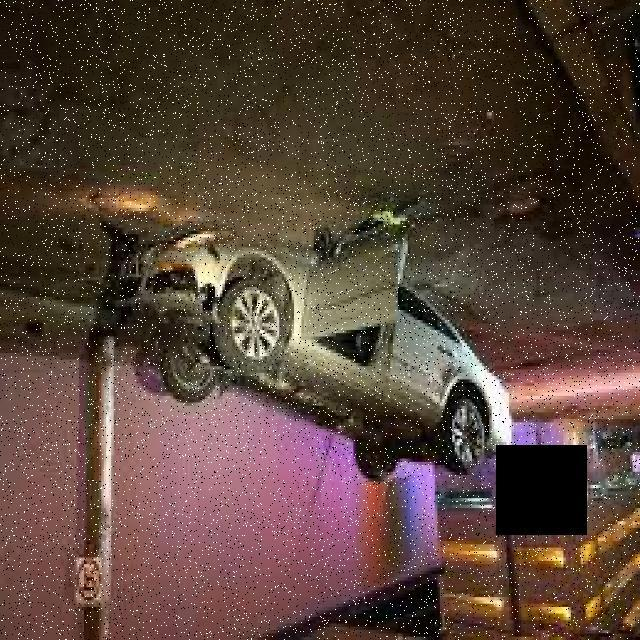severe: (108, 214, 518, 502)
